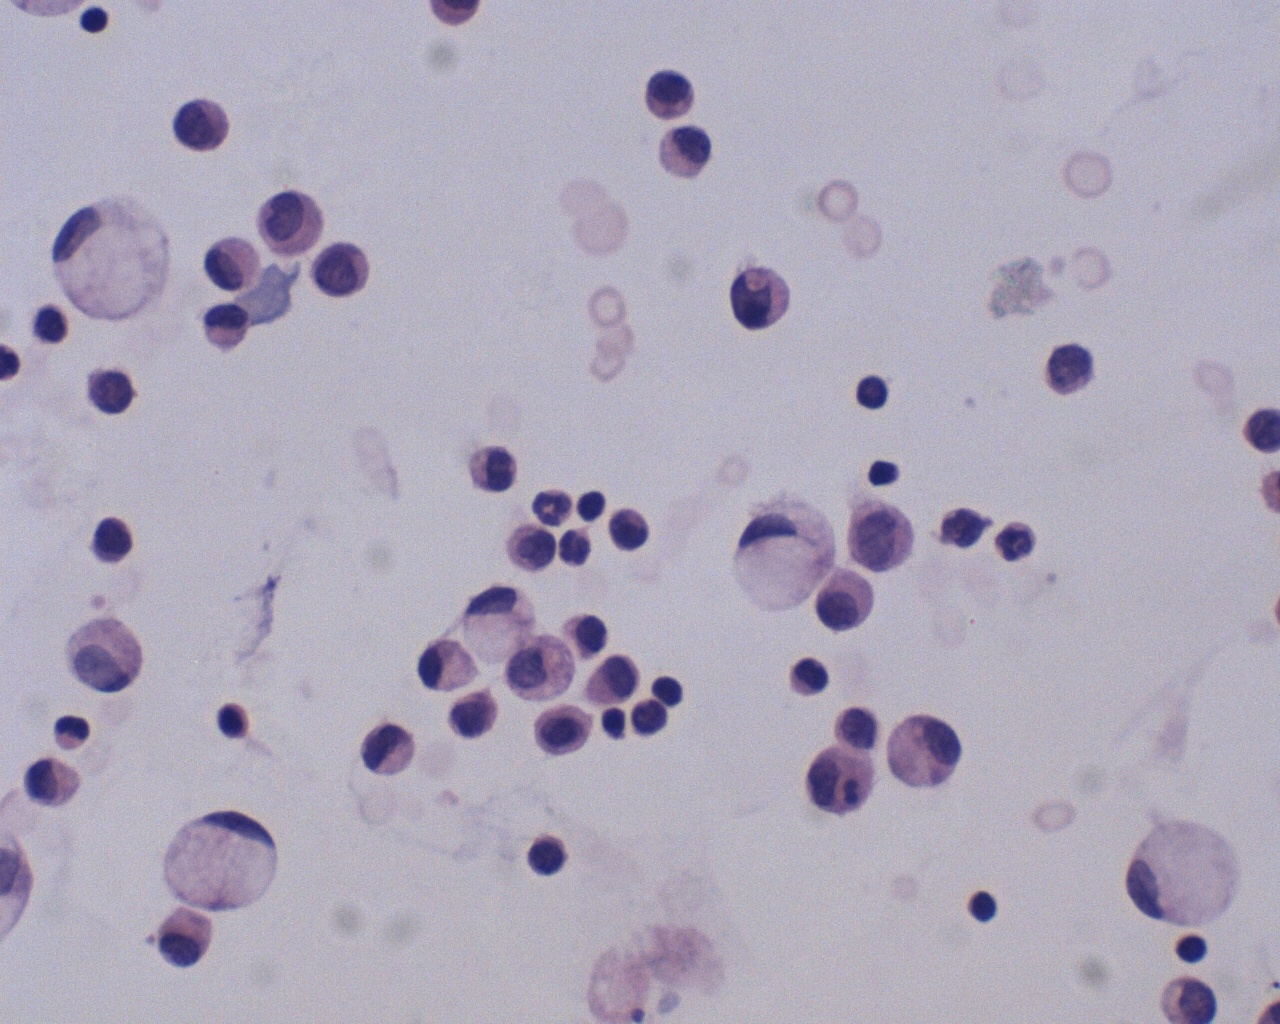ab: (725, 258, 793, 333), (309, 239, 379, 304), (169, 96, 234, 161)
histo: (38, 199, 188, 327), (1102, 812, 1248, 930), (155, 802, 285, 913), (730, 491, 836, 613), (460, 580, 545, 669)
lymph: (854, 365, 891, 415), (965, 885, 1003, 927), (1176, 929, 1210, 970)
meso: (875, 709, 965, 796), (813, 566, 880, 637), (525, 700, 600, 762), (417, 634, 485, 695), (589, 650, 641, 709)
neutro: (532, 482, 578, 530), (995, 520, 1035, 567)
